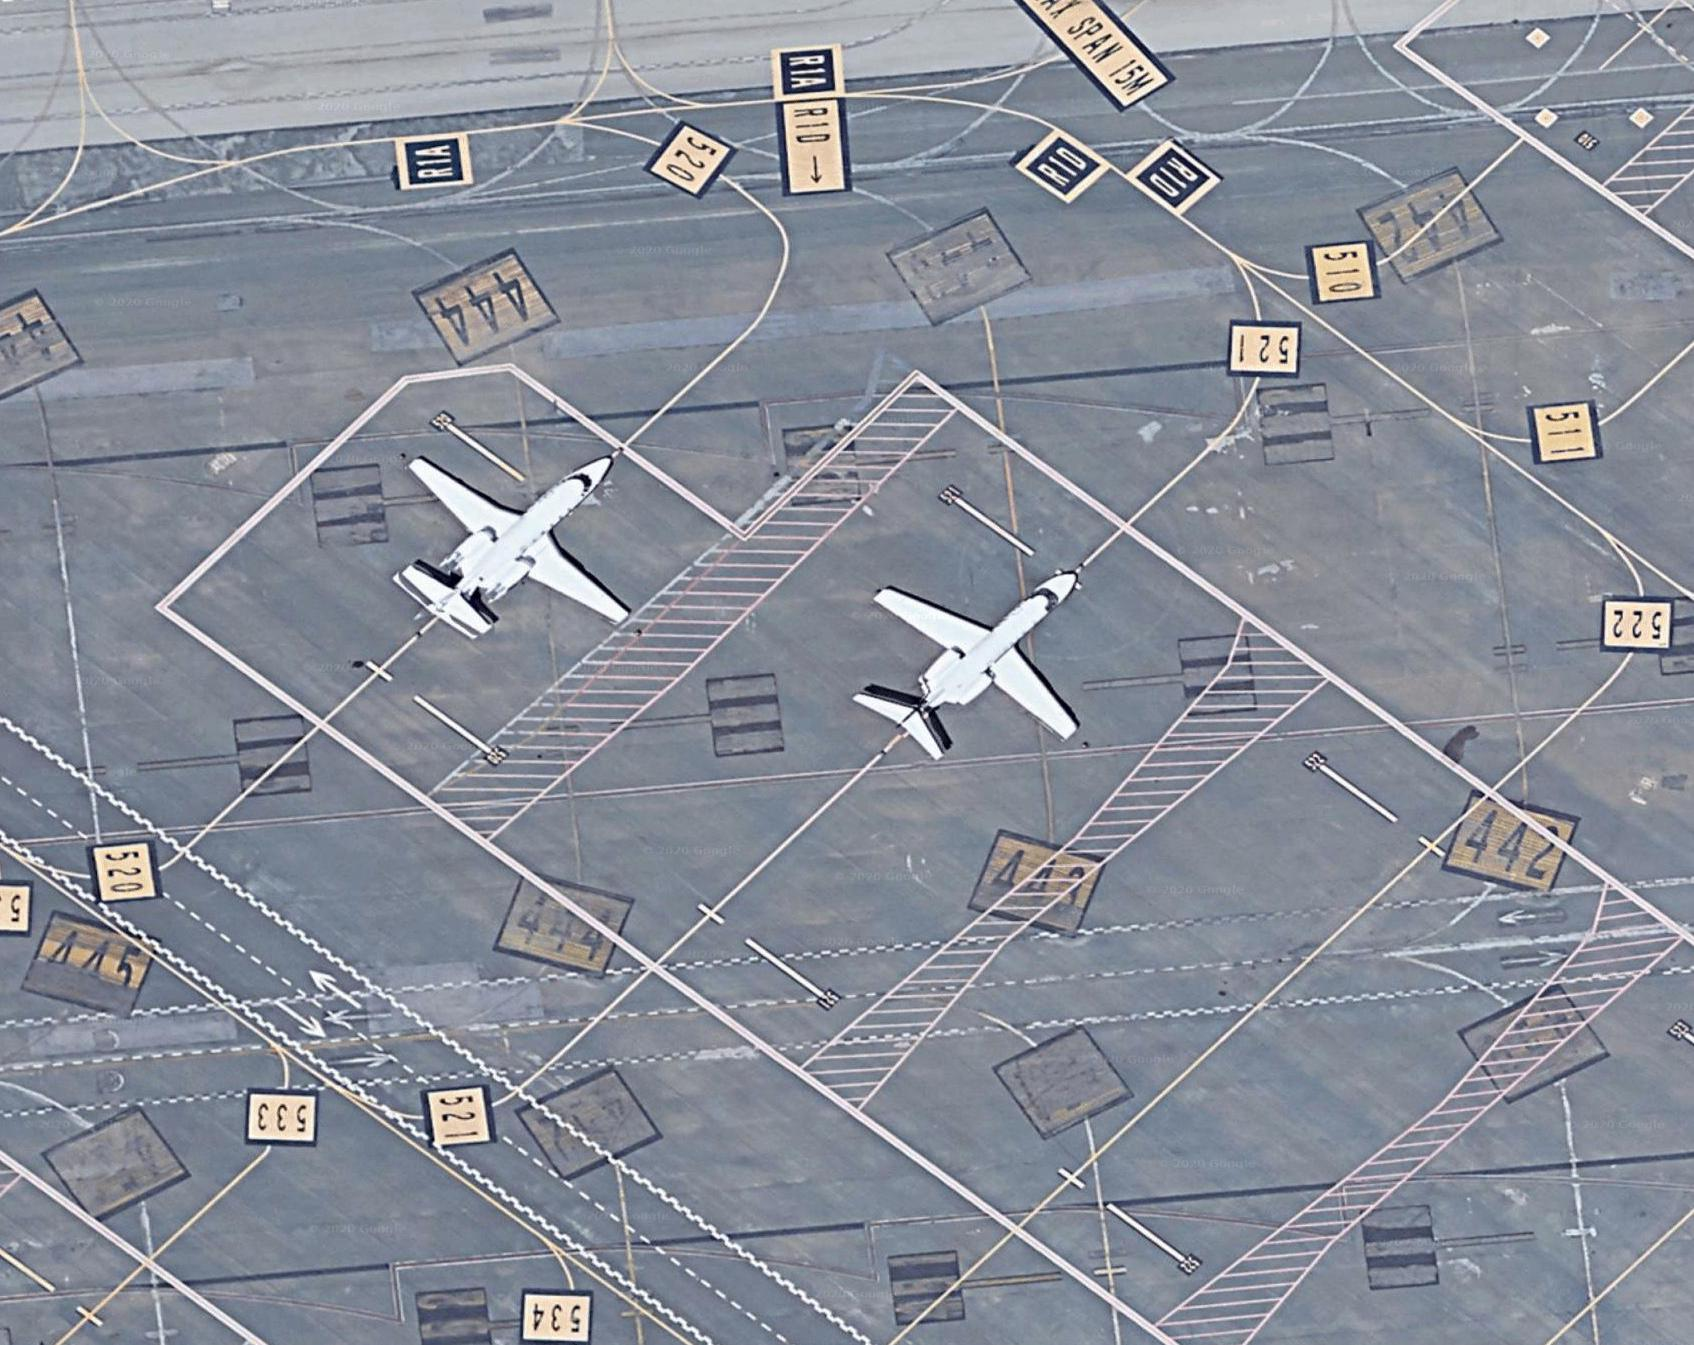plane: (329, 369, 705, 710), (791, 492, 1167, 817)
